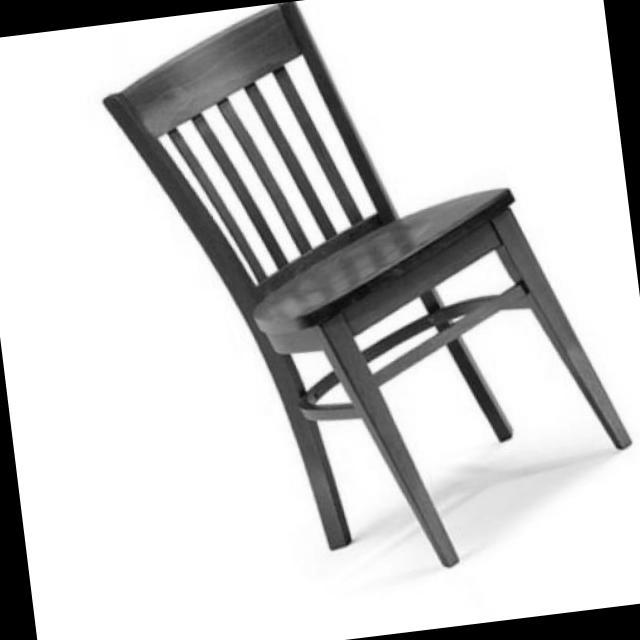chair: (89, 0, 640, 605)
